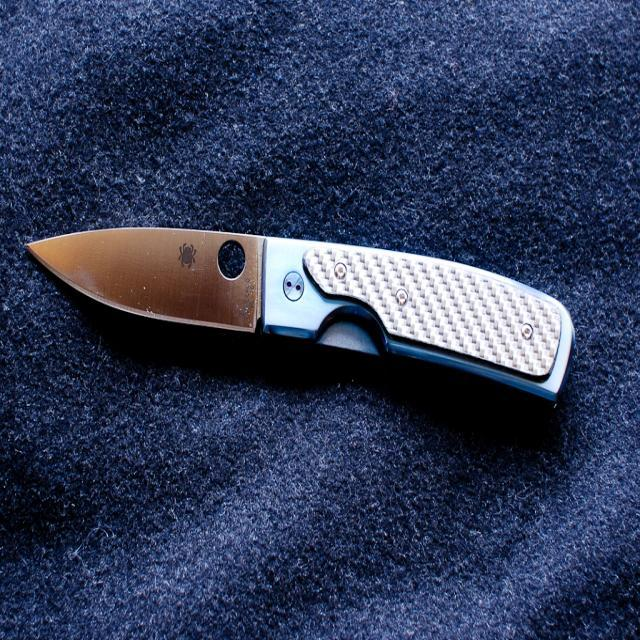Knife: (29, 229, 574, 400)
